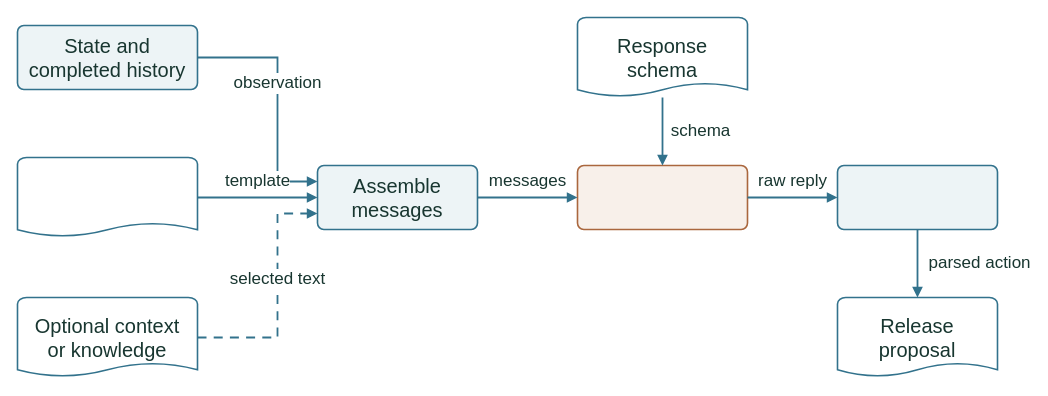
The diagram is 1048 pixels wide and 396 high, and some of its shapes have lost their labels. The box of each missing label's shape, as (x1, y1, x2, y2) in pixels:
LLM: (576, 164, 748, 230)
Prompt template: (16, 156, 198, 238)
Validate reply: (836, 164, 998, 230)
